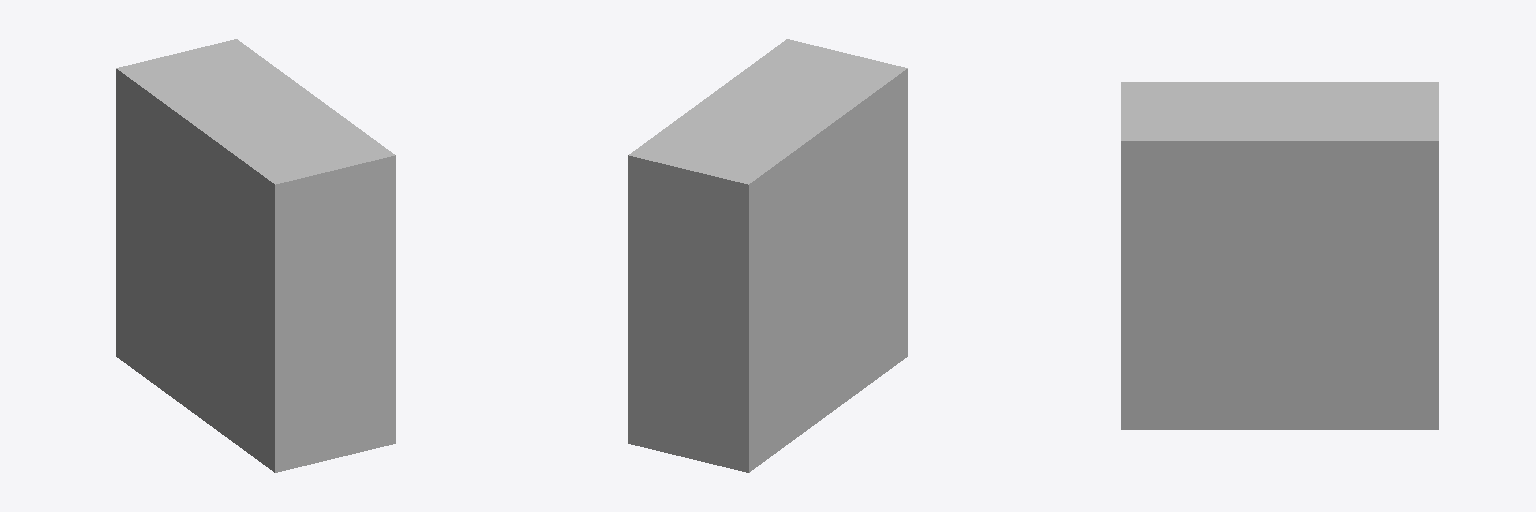
The model's file is computer.obj.
The picture shows the model from 3 angles: view 1: azimuth 30°, elevation 25°; view 2: azimuth 150°, elevation 25°; view 3: azimuth 270°, elevation 25°; orthographic projection.
Bounding box in the file's own units: 0.35 × 0.8 × 0.8.